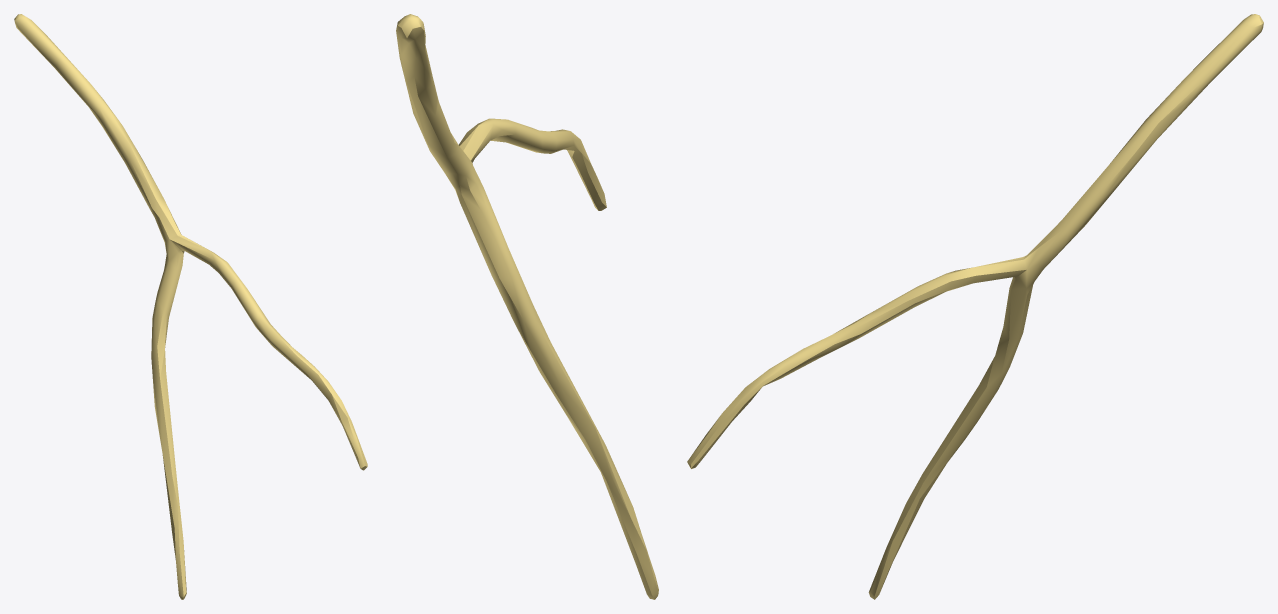
Rendered from fma6201_fj4156.glb.
The picture shows the model from 3 angles, left to right: view 1: azimuth 30°, elevation 25°; view 2: azimuth 150°, elevation 25°; view 3: azimuth 270°, elevation 25°; orthographic projection. The views are drawn at different scales.
Visible parts, largest first — view 1: FMA6201_FJ4156; view 2: FMA6201_FJ4156; view 3: FMA6201_FJ4156.
Boxes of the visible parts, <box> form: FMA6201_FJ4156: <box>14,14,367,599</box>; FMA6201_FJ4156: <box>396,14,658,599</box>; FMA6201_FJ4156: <box>687,14,1263,599</box>.
Size of the model in its own units: 0.00779 by 0.0286 by 0.0258.
